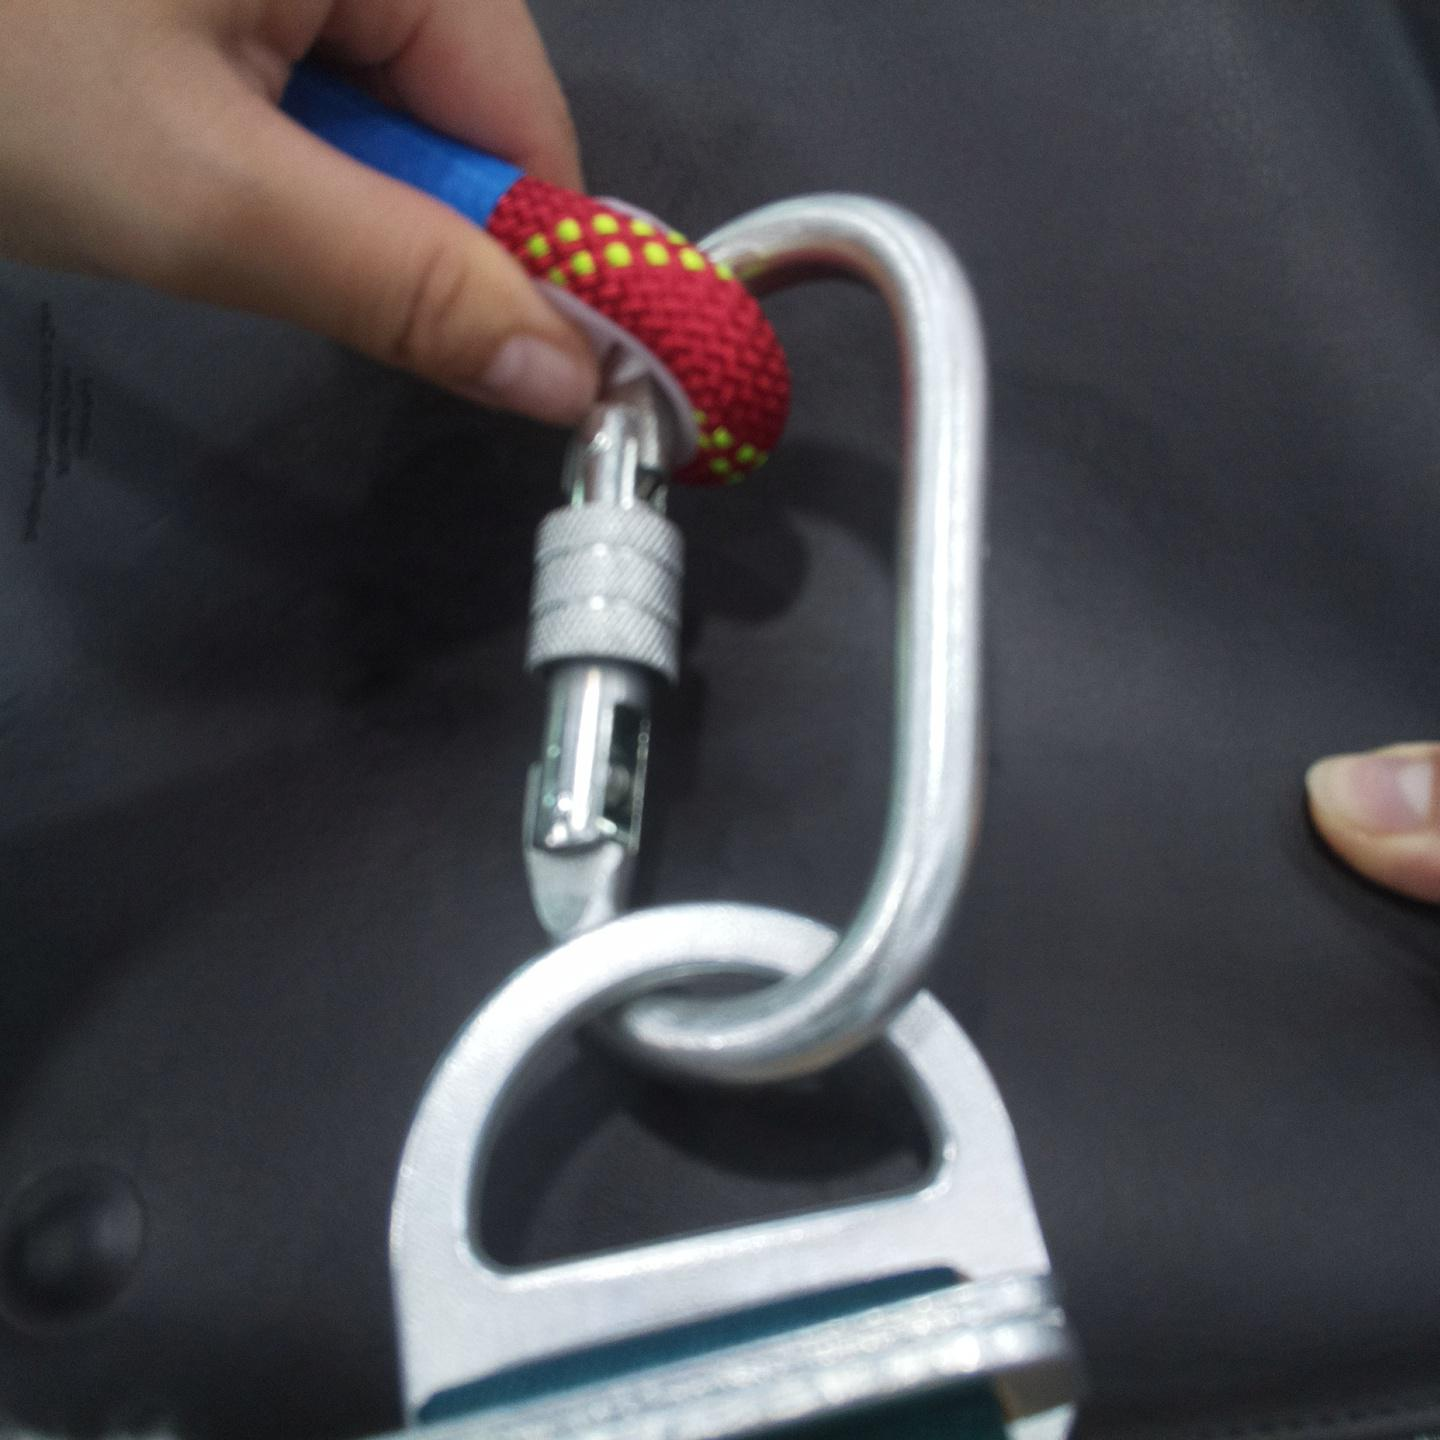SUCCESS: (388, 533, 1065, 1416)
